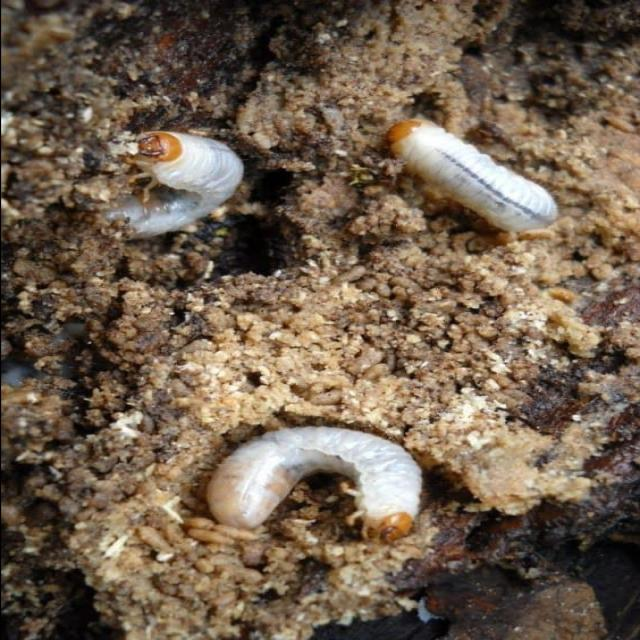grub: (197, 418, 436, 559), (377, 115, 574, 243), (86, 134, 250, 247)
